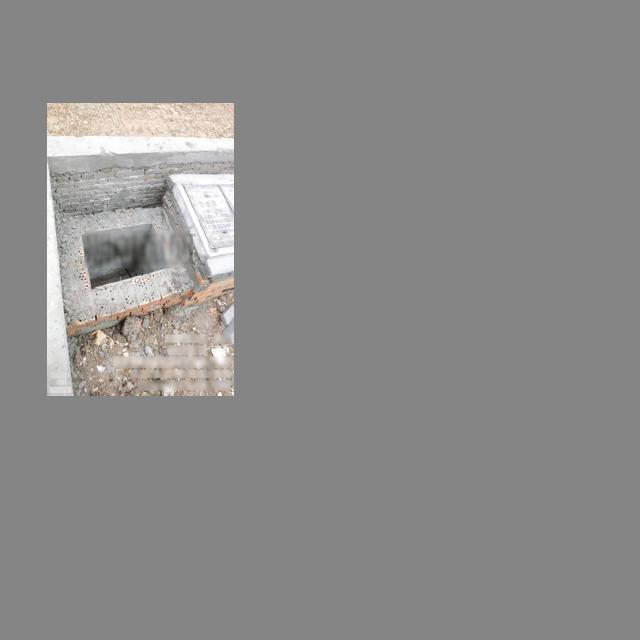lose: (81, 221, 172, 290)
